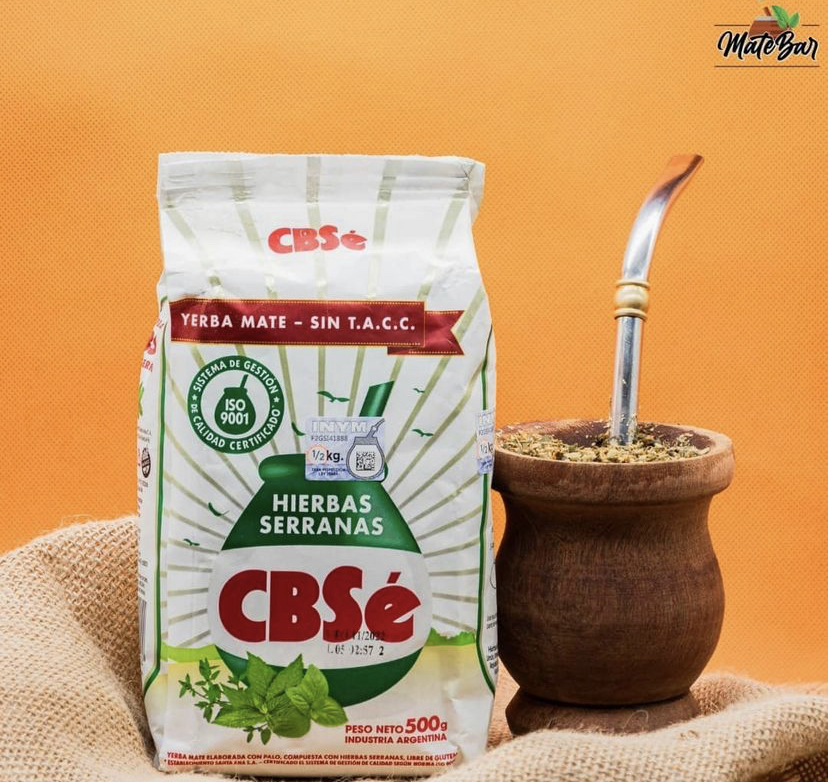madera: (485, 417, 743, 712)
mate: (490, 144, 734, 710)
